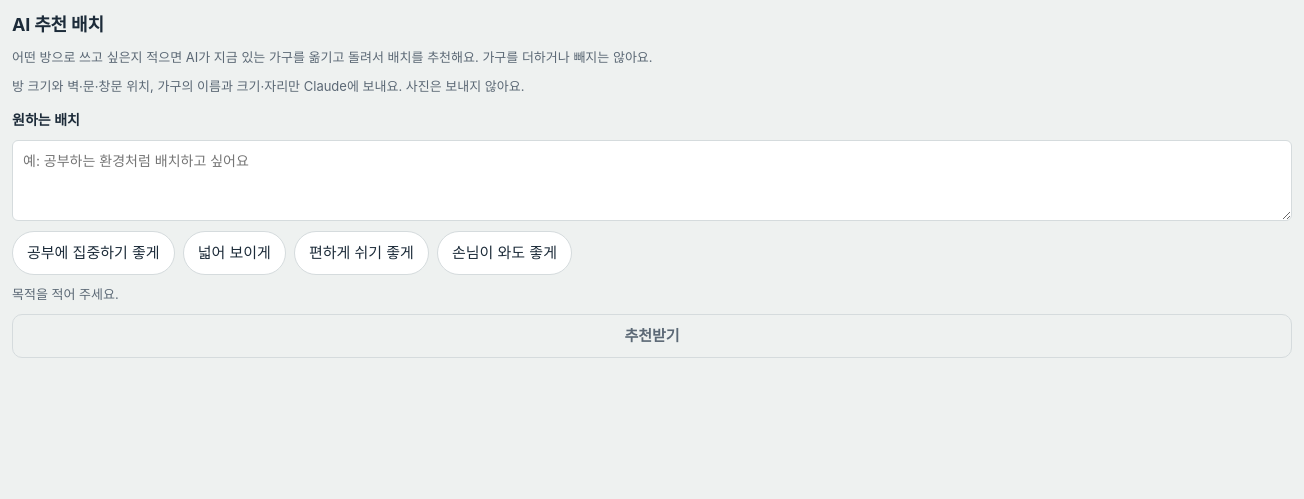
Test case: SuggestPanel › SG-4: 형식이 틀린 답은 적용하지 않고 오류와 다시 추천받기를 보인다
This screenshot has width=1304, height=499.
Type "공부하기 좋게" into the text box with test id "suggest-goal" at (652, 180), box [12,140,1292,221]
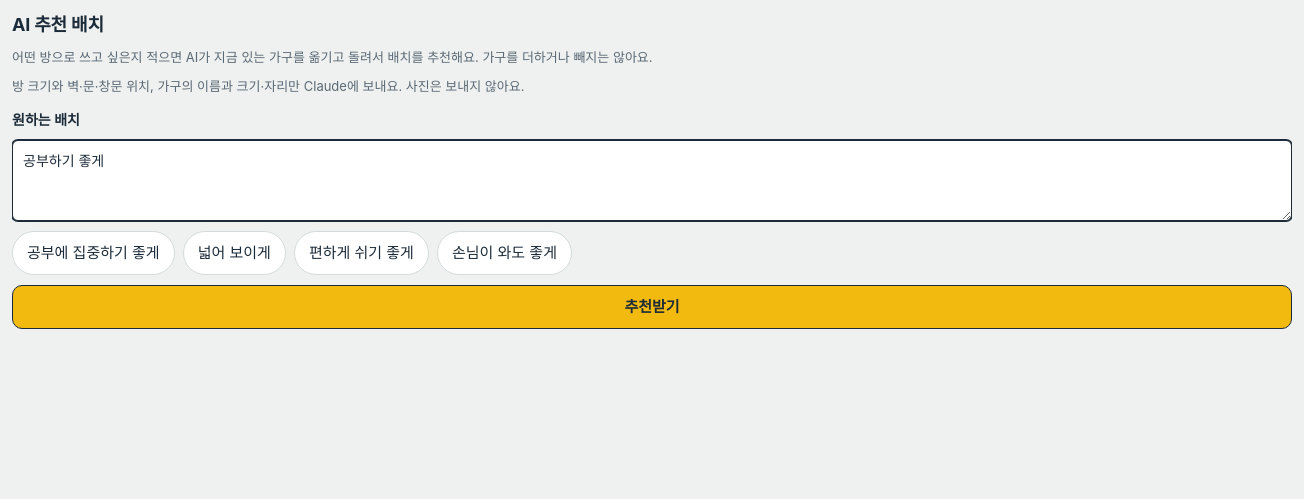
Result: the button with test id "suggest-run" is enabled
Click the button with test id "suggest-run" at (652, 307), box [12,285,1292,329]
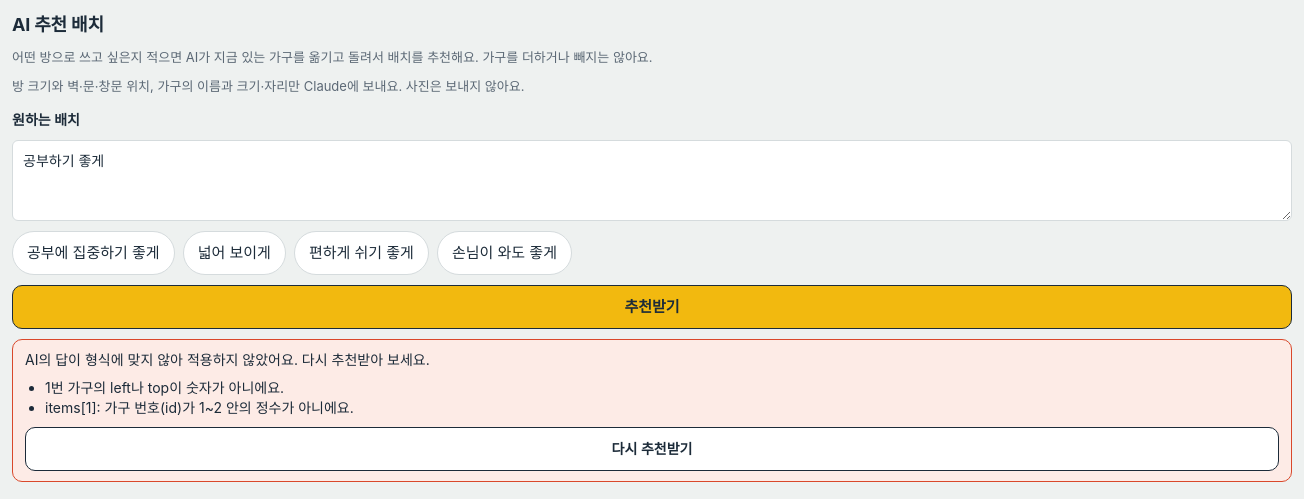
Result: the message with test id "suggest-error" is shown at [12,339,1292,482]
Result: the button with test id "suggest-retry" is shown at [25,427,1279,471]
